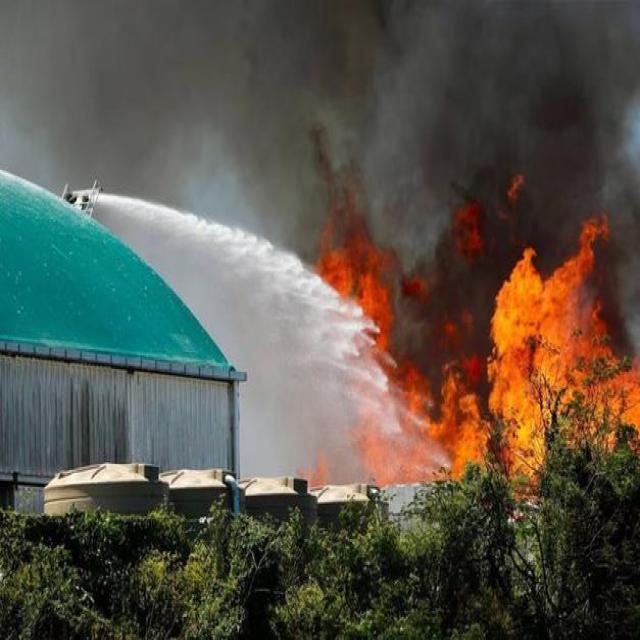Fire: (486, 222, 640, 476), (408, 361, 483, 479), (320, 228, 392, 338)
Smoke: (313, 0, 640, 212)
